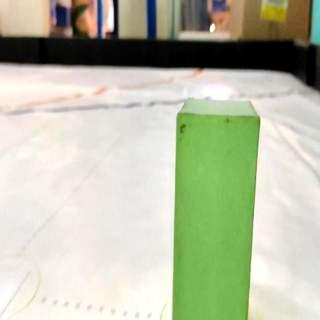greenbox: (172, 96, 261, 320)
